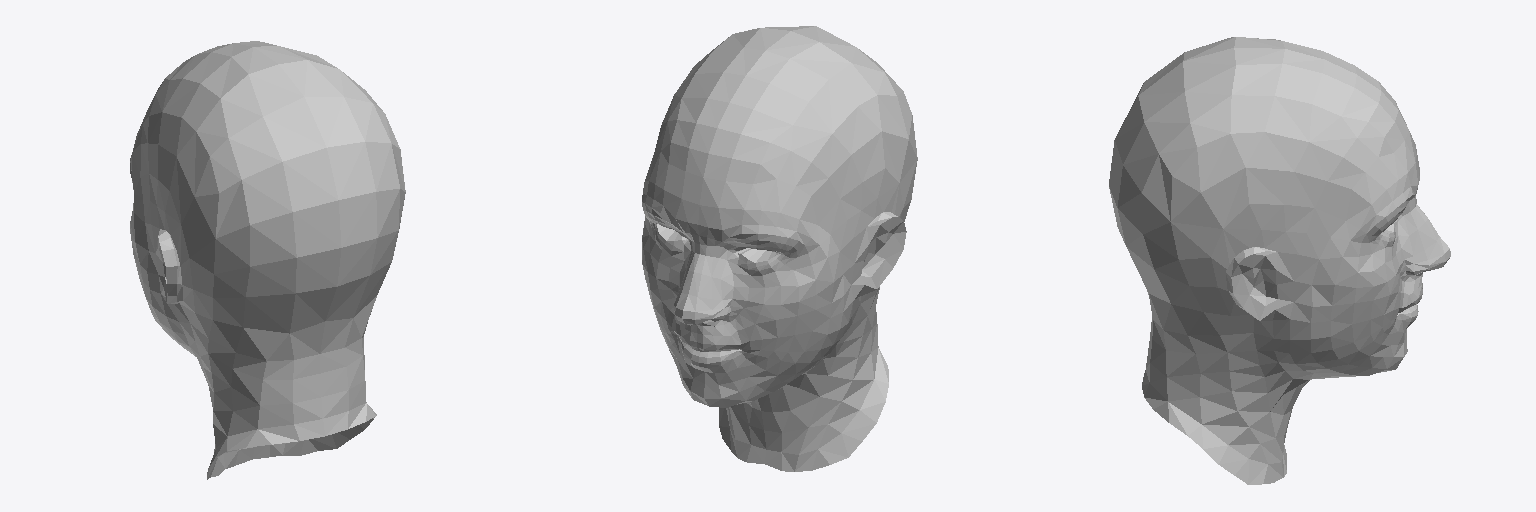
File: Head.obj
3 renders of one model, left to right at view 1: azimuth 30°, elevation 25°; view 2: azimuth 150°, elevation 25°; view 3: azimuth 270°, elevation 25°, orthographic.
Parts seen in each view (by area): view 1: FemaleHead; view 2: FemaleHead; view 3: FemaleHead.
Boxes of the visible parts, x1=… form: FemaleHead: x1=130, y1=41, x2=405, y2=479; FemaleHead: x1=642, y1=26, x2=917, y2=471; FemaleHead: x1=1109, y1=37, x2=1450, y2=484.
Bounding box in the file's own units: 12.61 × 21.83 × 16.27.